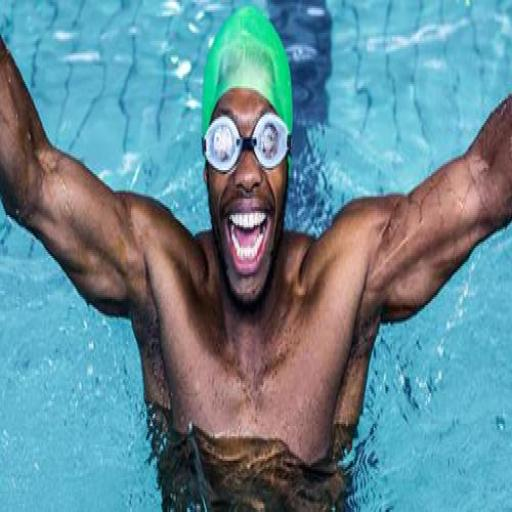swimming: (0, 4, 511, 510)
